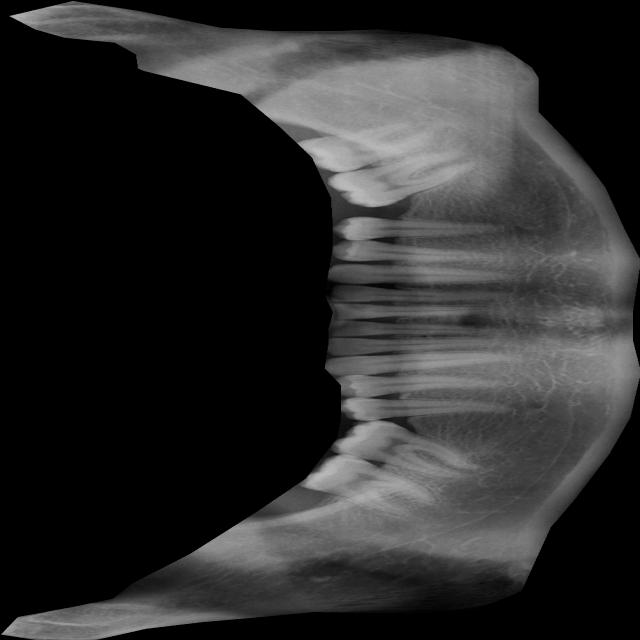mandibula: (1, 0, 640, 640)
